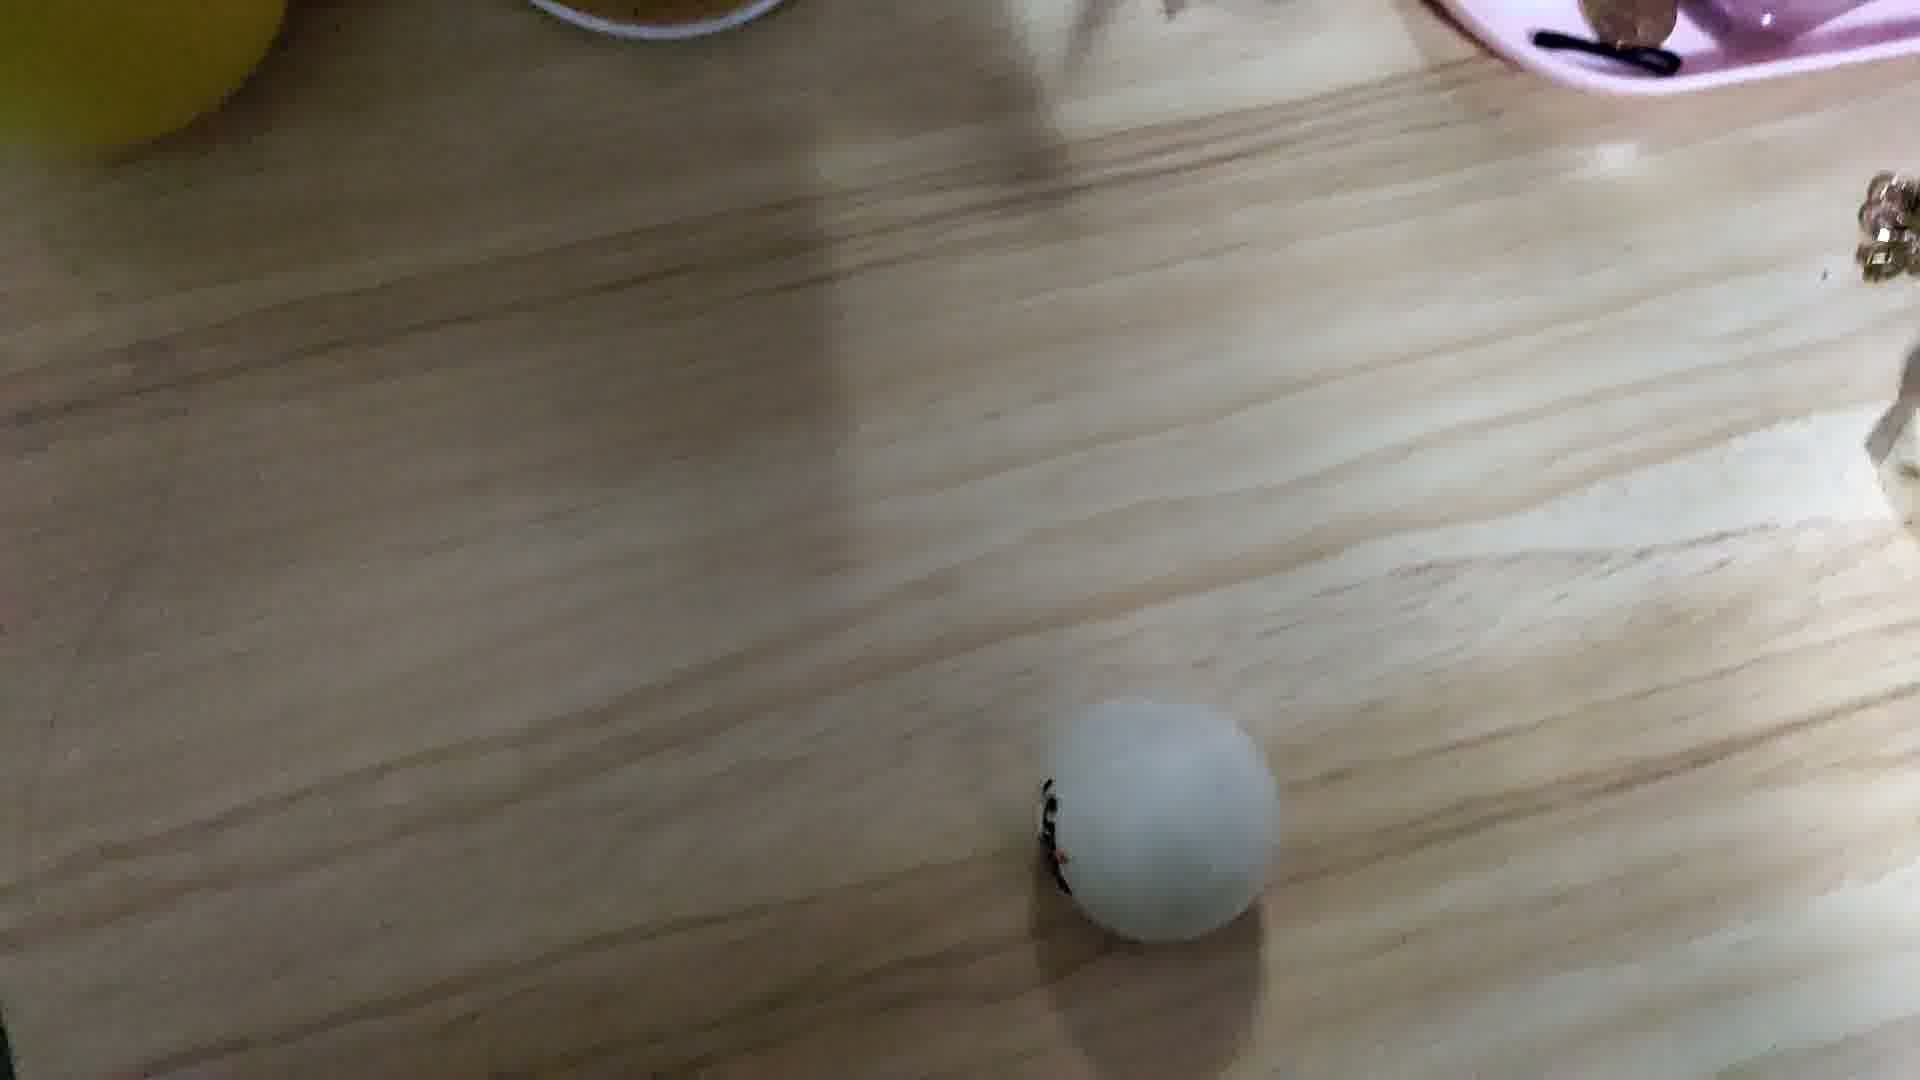Ball: (1033, 690, 1288, 949)
